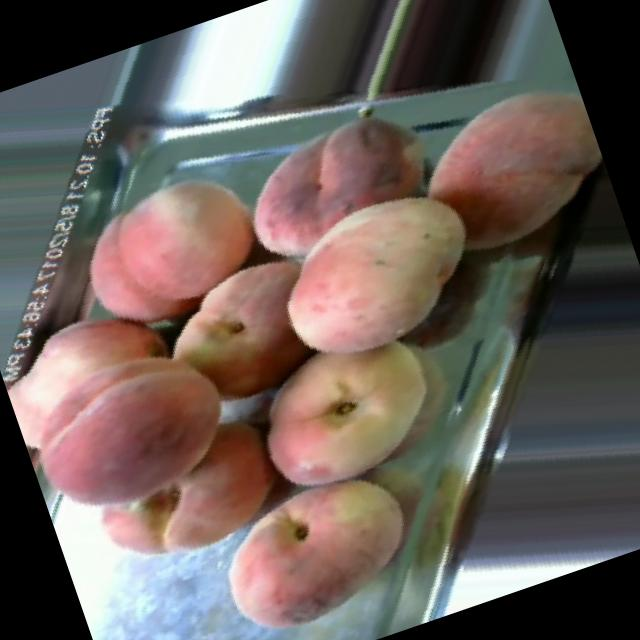Fruit: (209, 77, 519, 396), (0, 255, 277, 561), (41, 136, 303, 372), (378, 48, 628, 294), (221, 309, 477, 531), (180, 437, 450, 640)
